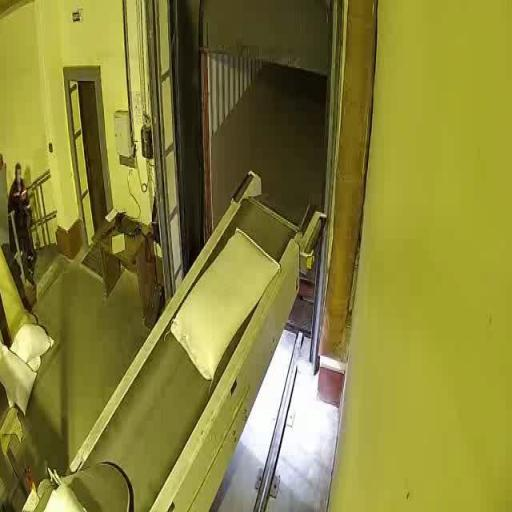c-belt-sack-count: (171, 229, 279, 378)
